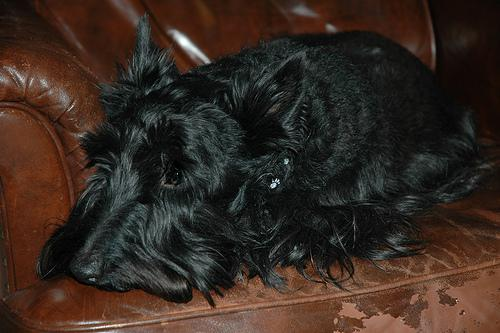dog-scottish_terrier: (66, 14, 304, 289)
